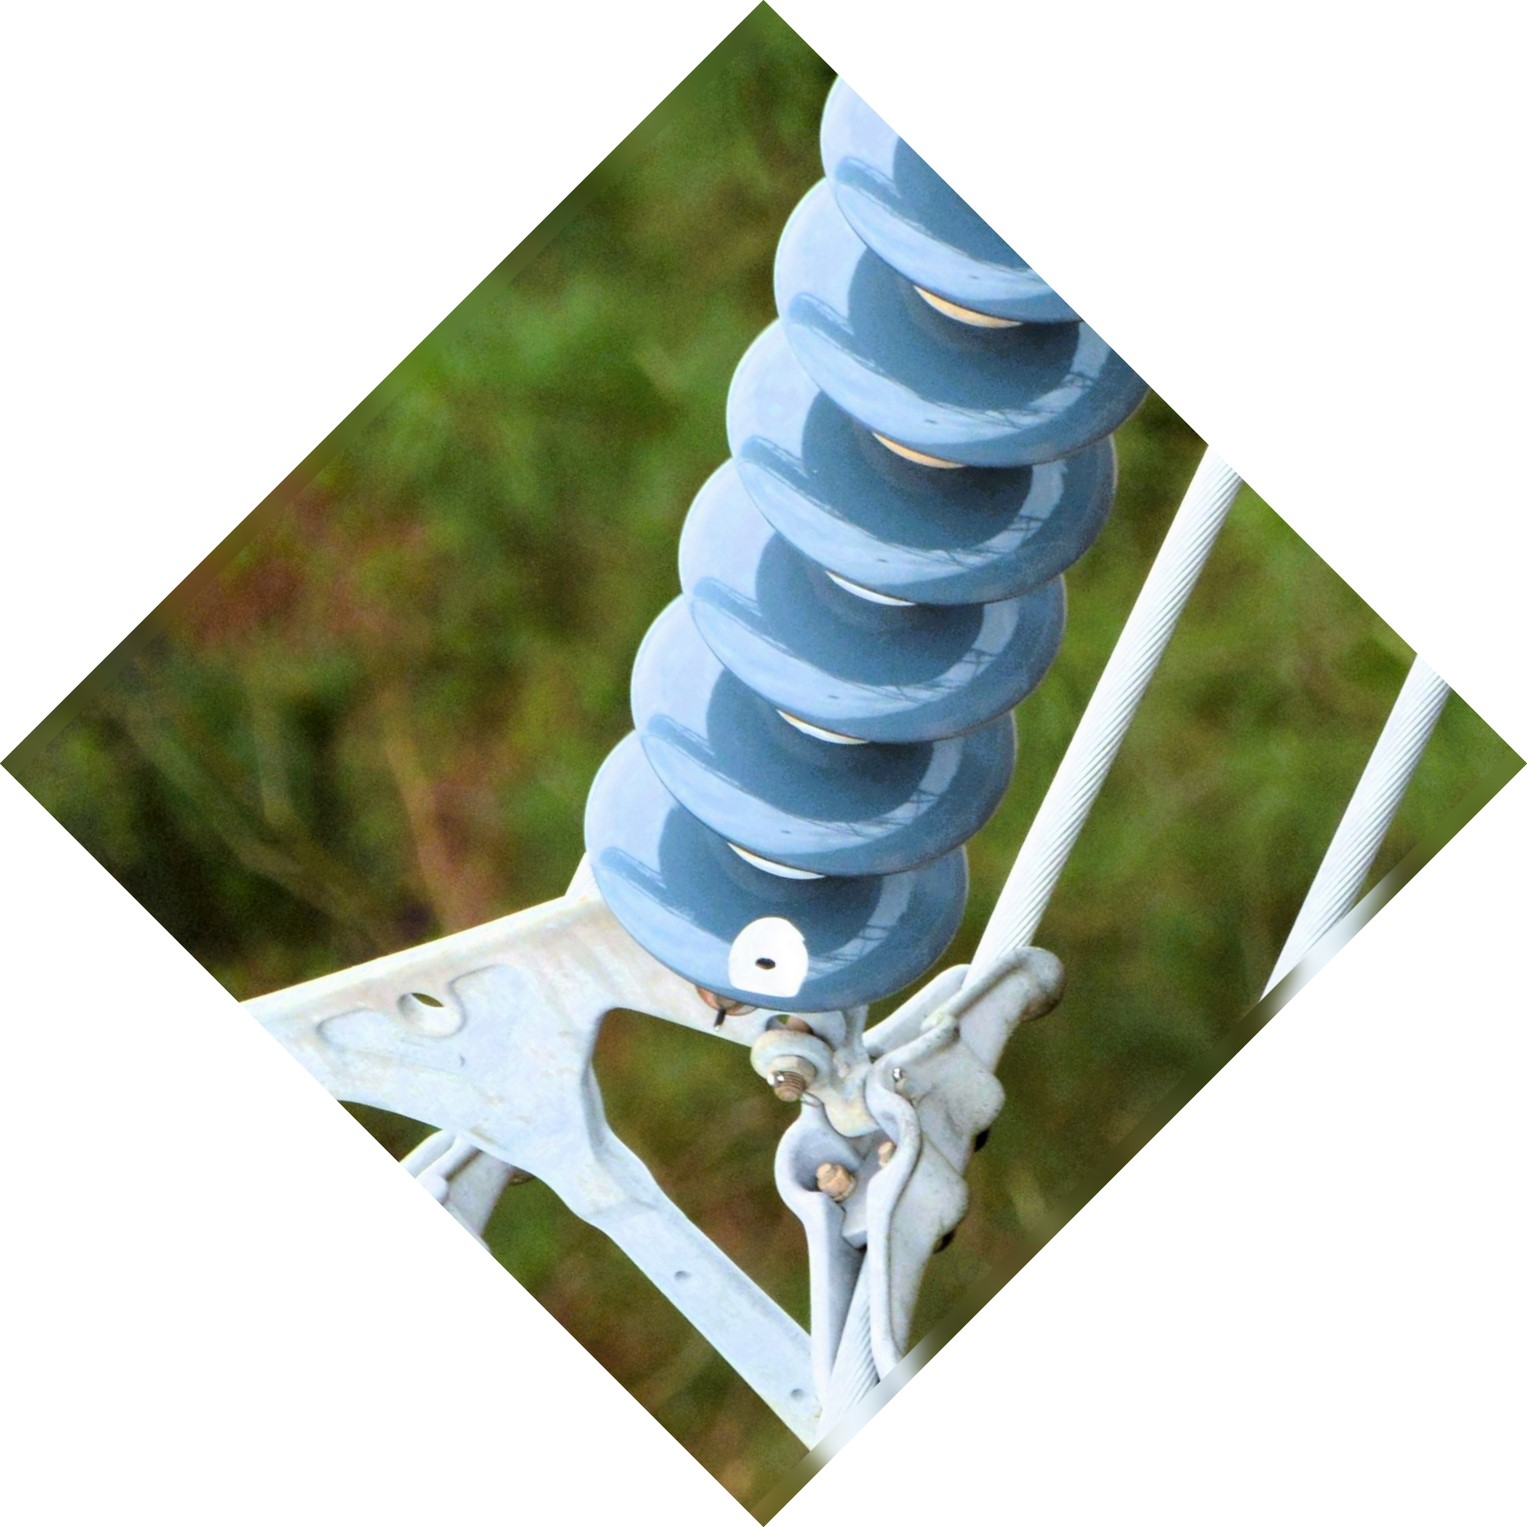insulator breakage: (564, 787, 984, 1019)
